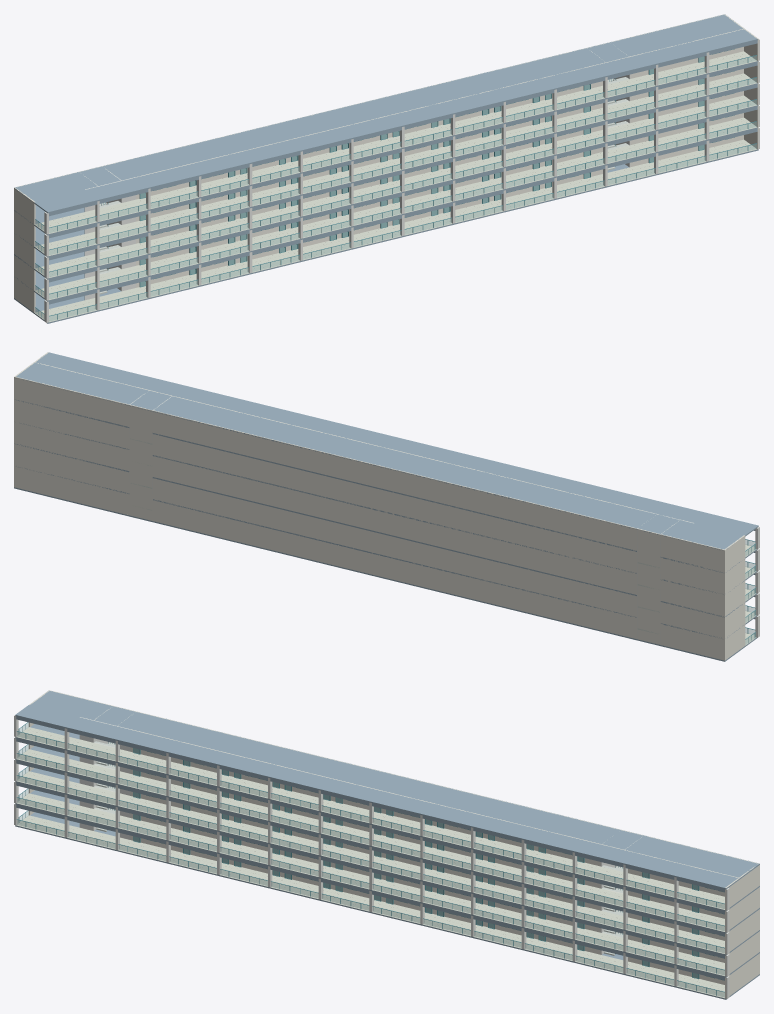
Rendered from teaching_five_floor.glb.
3 renders of one model, top to bottom at view 1: azimuth 30°, elevation 25°; view 2: azimuth 150°, elevation 25°; view 3: azimuth 330°, elevation 25°, orthographic.
Parts seen in each view (by area): view 1: solid_slab_5, detail_stairs_Blue grey floor slab, F04_detail_Pale ceramic tile, F05_detail_Pale ceramic tile, F01_detail_Pale ceramic tile, F02_detail_Pale ceramic tile, F03_detail_Pale ceramic tile, F05_solid_Soft ivory wall, F02_solid_Transparent blue green glass, F03_solid_Transparent blue green glass, F01_solid_Transparent blue green glass, F05_solid_Transparent blue green glass (+26 smaller); view 2: solid_slab_5, F05_solid_Soft ivory wall, F03_solid_Soft ivory wall, F01_solid_Soft ivory wall, F04_solid_Soft ivory wall, F02_solid_Soft ivory wall, solid_slab_0, solid_slab_2_segment_2, solid_slab_4_segment_2, solid_slab_1_segment_2, solid_slab_3_segment_2; view 3: solid_slab_5, detail_stairs_Blue grey floor slab, F05_detail_Pale ceramic tile, F02_detail_Pale ceramic tile, F04_detail_Pale ceramic tile, F01_detail_Pale ceramic tile, F03_detail_Pale ceramic tile, F05_solid_Soft ivory wall, F03_solid_Transparent blue green glass, F02_solid_Transparent blue green glass, F01_solid_Transparent blue green glass, F04_solid_Transparent blue green glass (+31 smaller).
Boxes of the visible parts, x1=… form: solid_slab_5: x1=14, y1=14, x2=758, y2=213; detail_stairs_Blue grey floor slab: x1=49, y1=40, x2=757, y2=304; F04_detail_Pale ceramic tile: x1=34, y1=73, x2=756, y2=255; F05_detail_Pale ceramic tile: x1=34, y1=51, x2=756, y2=233; F01_detail_Pale ceramic tile: x1=35, y1=139, x2=757, y2=322; F02_detail_Pale ceramic tile: x1=35, y1=117, x2=756, y2=300; F03_detail_Pale ceramic tile: x1=34, y1=95, x2=756, y2=277; F05_solid_Soft ivory wall: x1=14, y1=14, x2=758, y2=224; F02_solid_Transparent blue green glass: x1=49, y1=122, x2=756, y2=299; F03_solid_Transparent blue green glass: x1=49, y1=100, x2=756, y2=277; F01_solid_Transparent blue green glass: x1=49, y1=144, x2=756, y2=321; F05_solid_Transparent blue green glass: x1=49, y1=56, x2=756, y2=232; solid_slab_5: x1=16, y1=352, x2=758, y2=550; F05_solid_Soft ivory wall: x1=14, y1=352, x2=745, y2=572; F03_solid_Soft ivory wall: x1=14, y1=421, x2=745, y2=616; F01_solid_Soft ivory wall: x1=14, y1=465, x2=745, y2=660; F04_solid_Soft ivory wall: x1=14, y1=399, x2=745, y2=594; F02_solid_Soft ivory wall: x1=14, y1=443, x2=745, y2=638; solid_slab_0: x1=14, y1=487, x2=757, y2=661; solid_slab_2_segment_2: x1=152, y1=477, x2=636, y2=595; solid_slab_4_segment_2: x1=152, y1=433, x2=636, y2=551; solid_slab_1_segment_2: x1=153, y1=499, x2=636, y2=617; solid_slab_3_segment_2: x1=152, y1=455, x2=636, y2=573; solid_slab_5: x1=15, y1=690, x2=759, y2=889; detail_stairs_Blue grey floor slab: x1=16, y1=716, x2=724, y2=980; F05_detail_Pale ceramic tile: x1=16, y1=727, x2=724, y2=909; F02_detail_Pale ceramic tile: x1=16, y1=793, x2=724, y2=976; F04_detail_Pale ceramic tile: x1=16, y1=749, x2=724, y2=931; F01_detail_Pale ceramic tile: x1=16, y1=815, x2=724, y2=998; F03_detail_Pale ceramic tile: x1=17, y1=771, x2=724, y2=953; F05_solid_Soft ivory wall: x1=28, y1=690, x2=759, y2=910; F03_solid_Transparent blue green glass: x1=17, y1=776, x2=724, y2=953; F02_solid_Transparent blue green glass: x1=17, y1=798, x2=724, y2=975; F01_solid_Transparent blue green glass: x1=17, y1=820, x2=724, y2=997; F04_solid_Transparent blue green glass: x1=17, y1=754, x2=724, y2=930.
Size of the model in its own units: 146 by 21.84 by 12.
